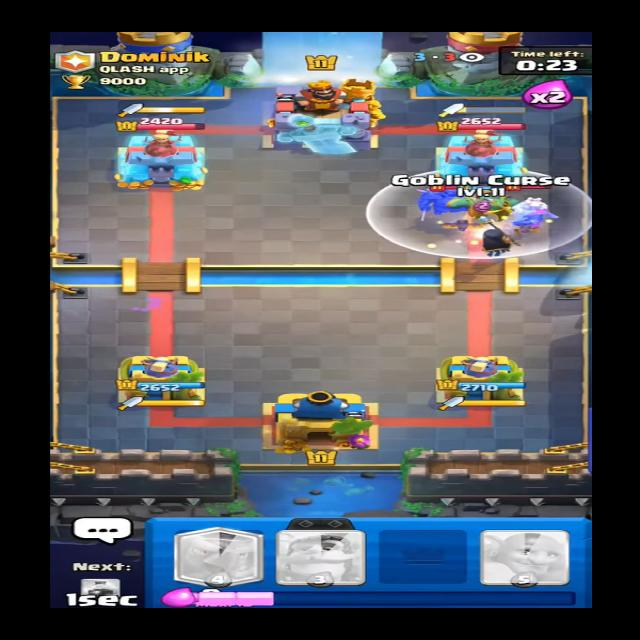Pekka: (408, 183, 489, 218)
Royalghost: (504, 185, 560, 230)
